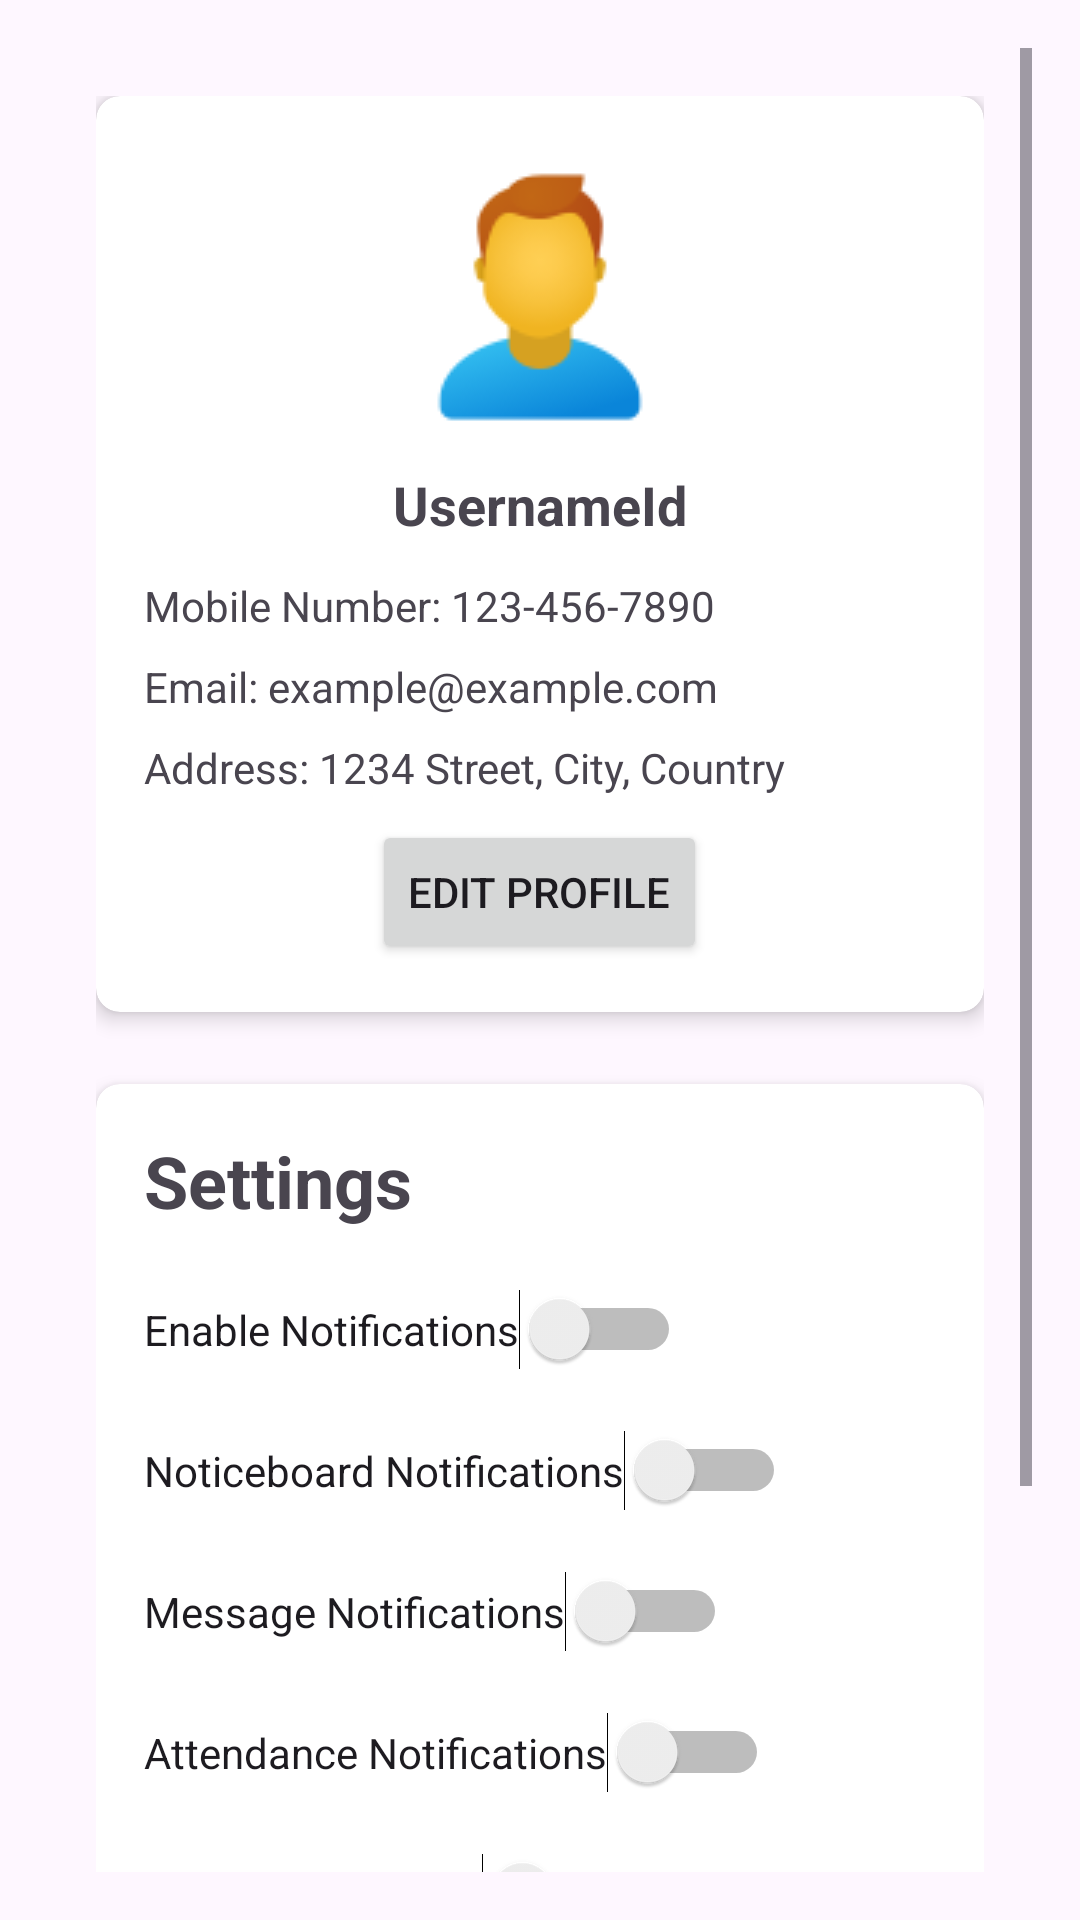

Point at icon controls on the screen. Image size 1080×1920, points as [x,y].
person: [540,297]
